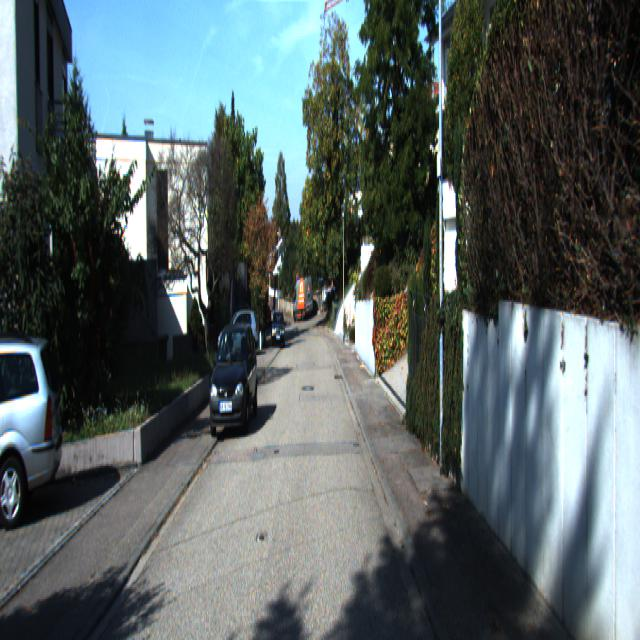Car: (0, 331, 66, 534), (207, 319, 260, 439), (218, 309, 261, 360), (293, 276, 314, 322), (271, 311, 285, 348)
